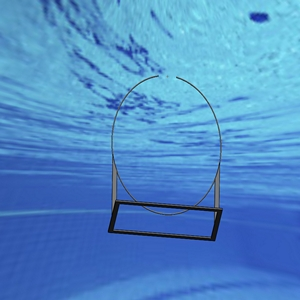circle: (109, 73, 222, 243)
